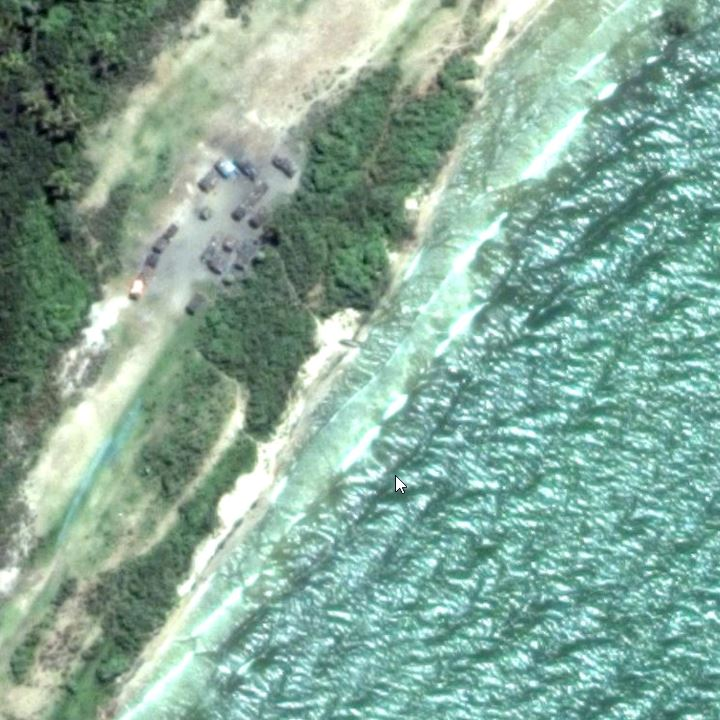boat: (327, 335, 381, 355)
